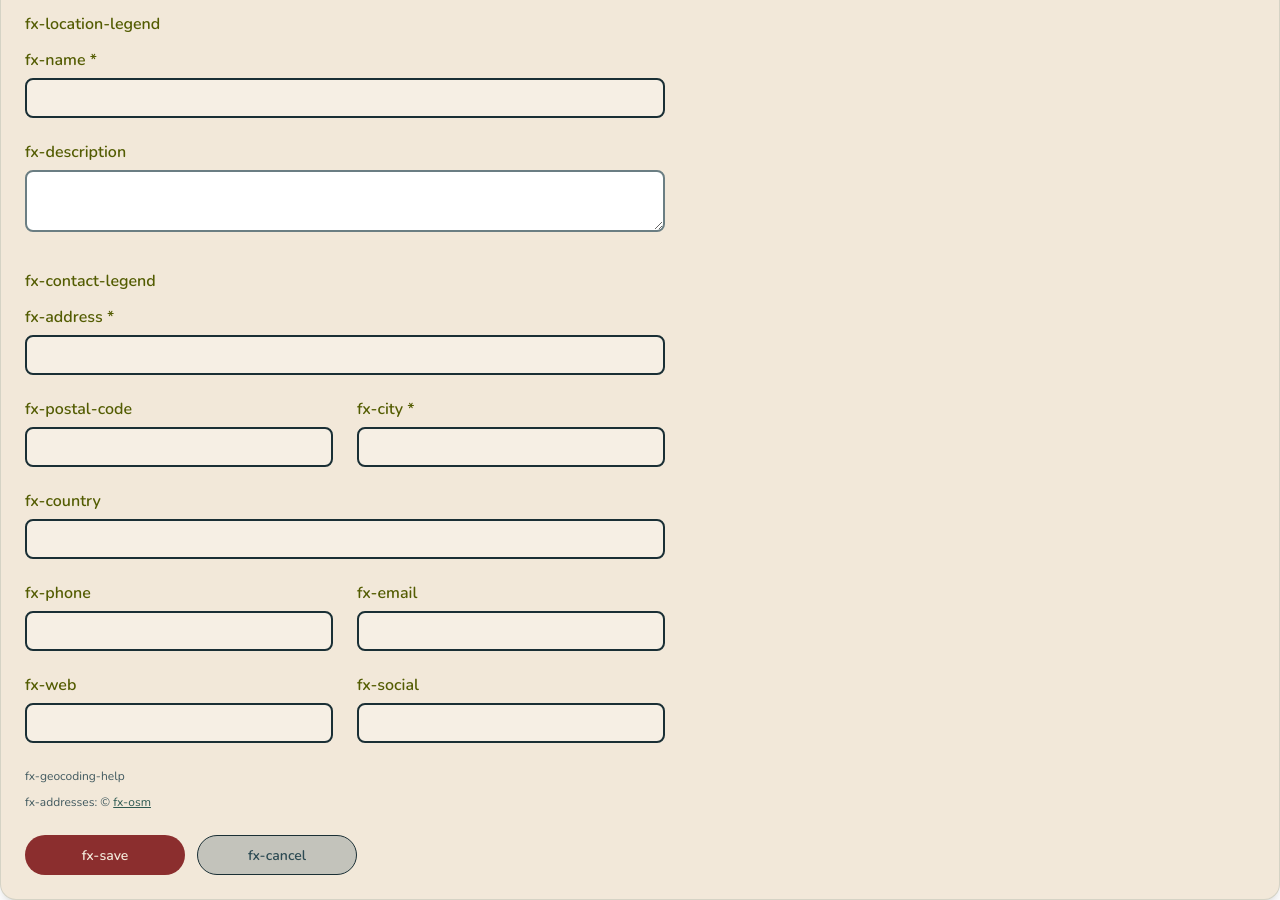
Test: LocationForm checks (spec: Location form checks) › shows requiredError under Name, Address and City, focuses Name and does not submit
(page scrolled)
Click the button "fx-save". click: point(105, 855)
box: [25,835,185,875]
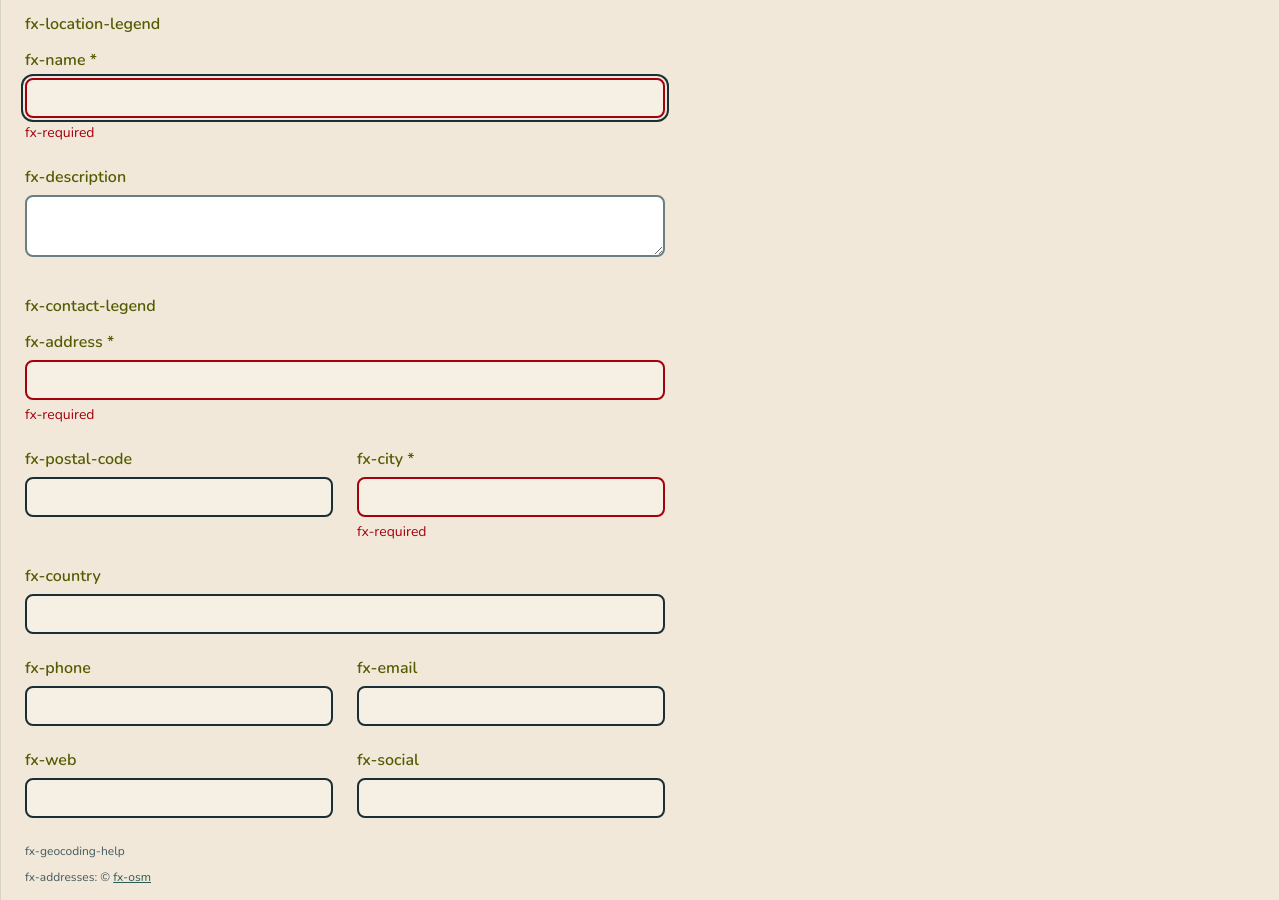
expect the text "fx-required" below "fx-city" is shown: met, box [357,522,426,541]
